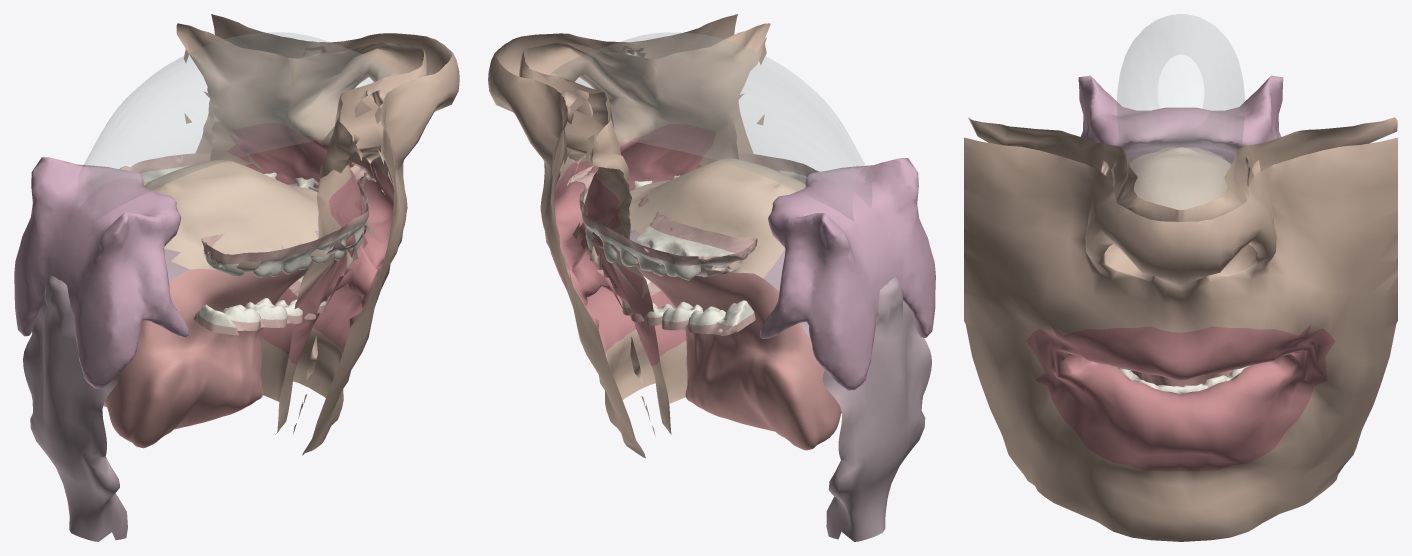
File: fem-lip-prototype.glb
3 renders of one model, left to right at view 1: azimuth 30°, elevation 25°; view 2: azimuth 150°, elevation 25°; view 3: azimuth 270°, elevation 25°, orthographic. The views are drawn at different scales.
Parts seen in each view (by area): view 1: LIP_CONTEXT, NASAL_LINING, SOFT_PALATE, TONGUE, PHARYNX, HARD_PALATE, GINGIVA_UPPER, UPPER_TEETH, LOWER_TEETH, GINGIVA_LOWER; view 2: LIP_CONTEXT, NASAL_LINING, SOFT_PALATE, TONGUE, PHARYNX, HARD_PALATE, GINGIVA_UPPER, UPPER_TEETH, LOWER_TEETH, GINGIVA_LOWER; view 3: LIP_CONTEXT, NASAL_LINING, SOFT_PALATE, HARD_PALATE, LOWER_TEETH, TONGUE.
Boxes of the visible parts, <box> form: LIP_CONTEXT: <box>176,14,459,455</box>; NASAL_LINING: <box>78,32,397,219</box>; SOFT_PALATE: <box>14,157,189,388</box>; TONGUE: <box>32,261,311,448</box>; PHARYNX: <box>23,183,366,541</box>; HARD_PALATE: <box>143,160,337,272</box>; GINGIVA_UPPER: <box>119,153,384,264</box>; UPPER_TEETH: <box>141,163,367,277</box>; LOWER_TEETH: <box>196,276,328,327</box>; GINGIVA_LOWER: <box>193,280,327,335</box>; LIP_CONTEXT: <box>488,14,770,458</box>; NASAL_LINING: <box>550,32,871,220</box>; SOFT_PALATE: <box>760,158,935,390</box>; TONGUE: <box>637,264,841,450</box>; PHARYNX: <box>599,189,931,541</box>; HARD_PALATE: <box>629,158,806,278</box>; GINGIVA_UPPER: <box>567,153,819,265</box>; UPPER_TEETH: <box>580,170,806,280</box>; LOWER_TEETH: <box>622,276,753,326</box>; GINGIVA_LOWER: <box>622,281,755,335</box>; LIP_CONTEXT: <box>964,117,1397,541</box>; NASAL_LINING: <box>1117,14,1244,209</box>; SOFT_PALATE: <box>1078,75,1283,163</box>; HARD_PALATE: <box>1129,147,1231,209</box>; LOWER_TEETH: <box>1113,366,1248,394</box>; TONGUE: <box>1131,370,1232,386</box>.
Bounding box in the file's own units: 0.119 × 0.1302 × 0.092.
